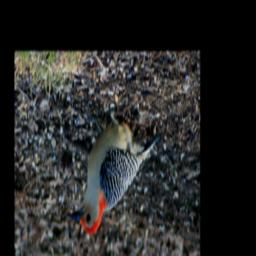Woodpecker: (68, 100, 158, 234)
